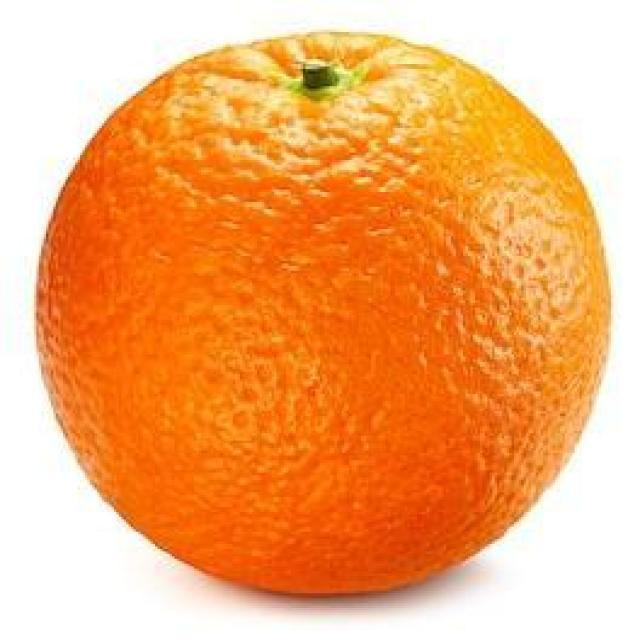orange: (36, 24, 612, 596)
